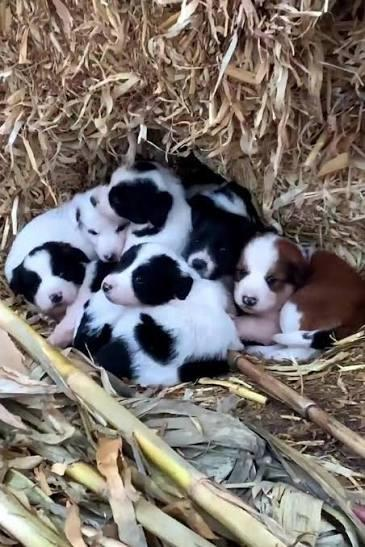puppy-dog: (71, 243, 245, 397), (229, 226, 365, 362), (164, 150, 274, 289), (7, 185, 131, 275), (97, 157, 194, 269), (5, 239, 99, 350)
